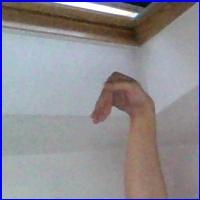del: (88, 65, 153, 132)
